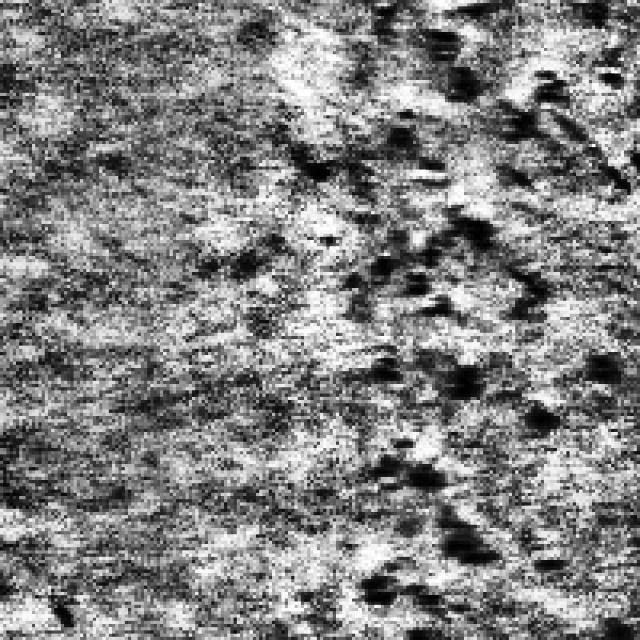Crazing: (346, 144, 532, 627), (372, 0, 630, 186)
